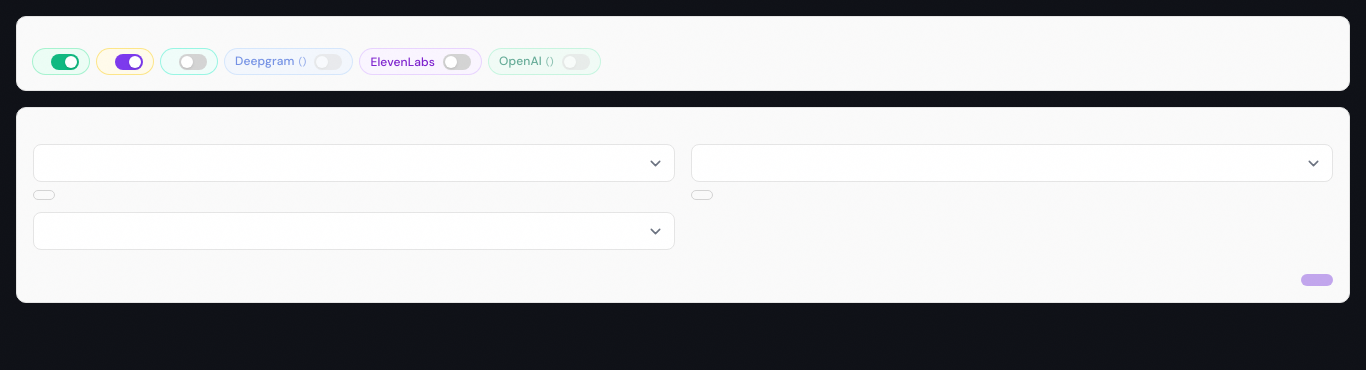
Test: VoicePanel › shows an error when persistProviders fails
The width and height of the screenshot is (1366, 370).
# Change provider and click save to trigger the RPC error.
Select "cloud" in the dropdown with test id "stt-provider-select" at (354,163), box [33, 144, 675, 182]
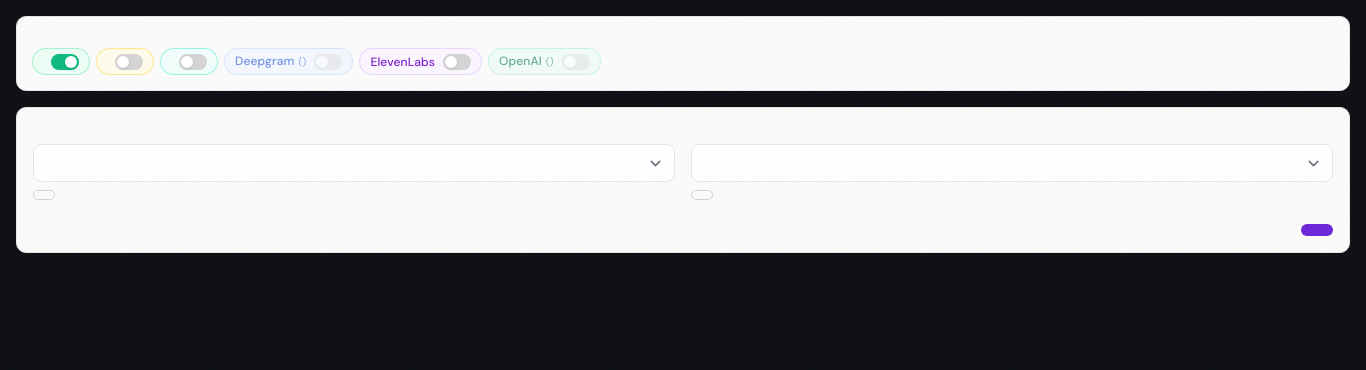
Click the button with test id "save-voice-routing" at (1317,230), box [1301, 224, 1333, 236]
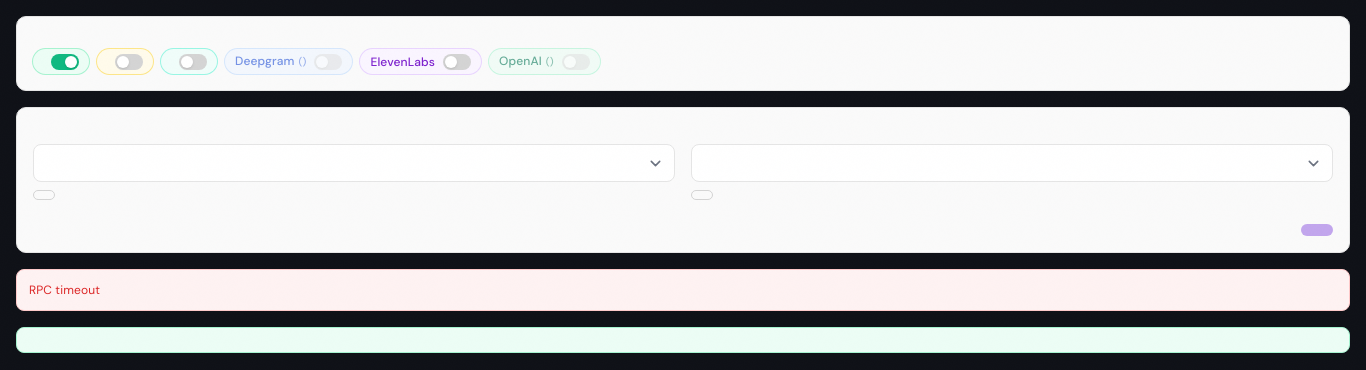
Expected: the text "RPC timeout" is shown, [16, 269, 1350, 311]
